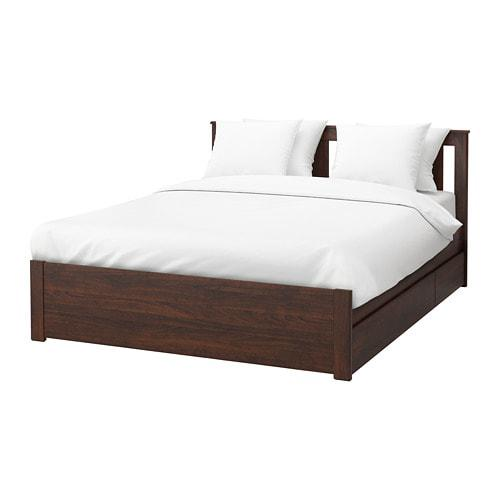bed: (18, 94, 483, 394)
